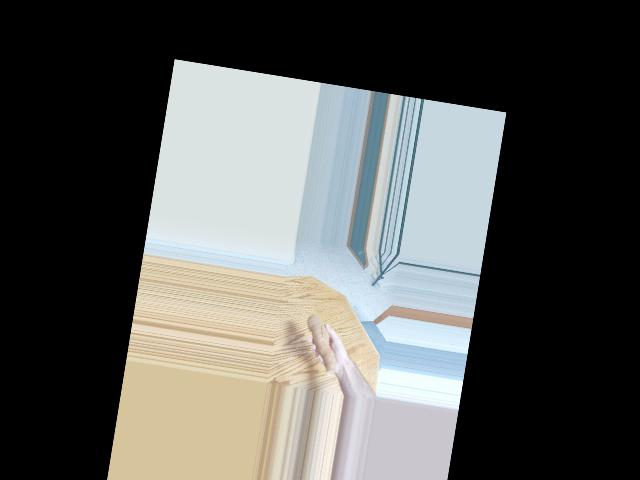sweet_potato: (299, 311, 348, 378)
